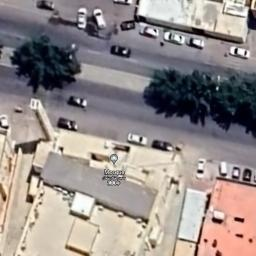sedan: (108, 42, 133, 60), (92, 7, 108, 30), (139, 24, 160, 40), (151, 138, 175, 152), (164, 31, 186, 46), (127, 132, 149, 147), (229, 46, 251, 60), (67, 94, 88, 108), (77, 5, 88, 31), (185, 36, 205, 50), (194, 158, 206, 180), (36, 0, 56, 12), (0, 114, 9, 133), (242, 167, 252, 183), (232, 164, 240, 181), (112, 0, 134, 5)
van: (57, 117, 79, 133), (218, 160, 228, 179)
